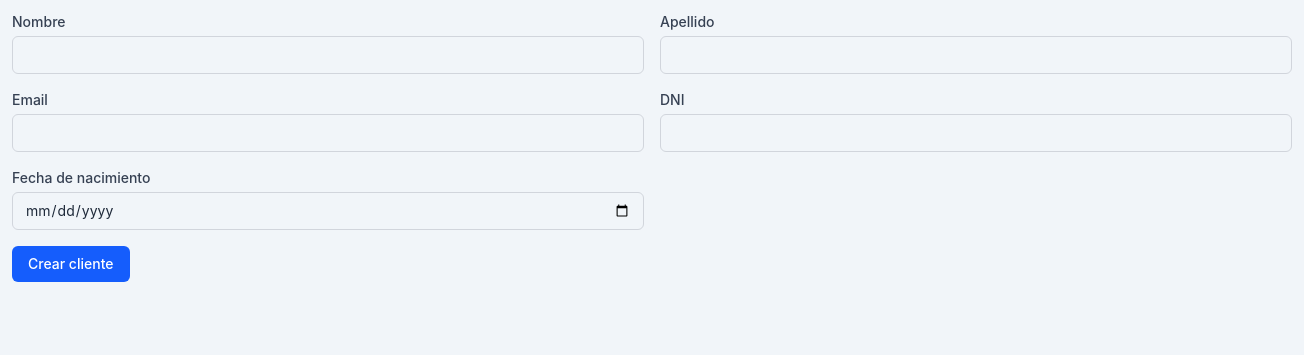
Test: CustomerForm › muestra el error devuelto por el backend
Step 1. Type "Ana" into the field labelled "Nombre" → {"x": 328, "y": 55}, box [12,36,644,74]
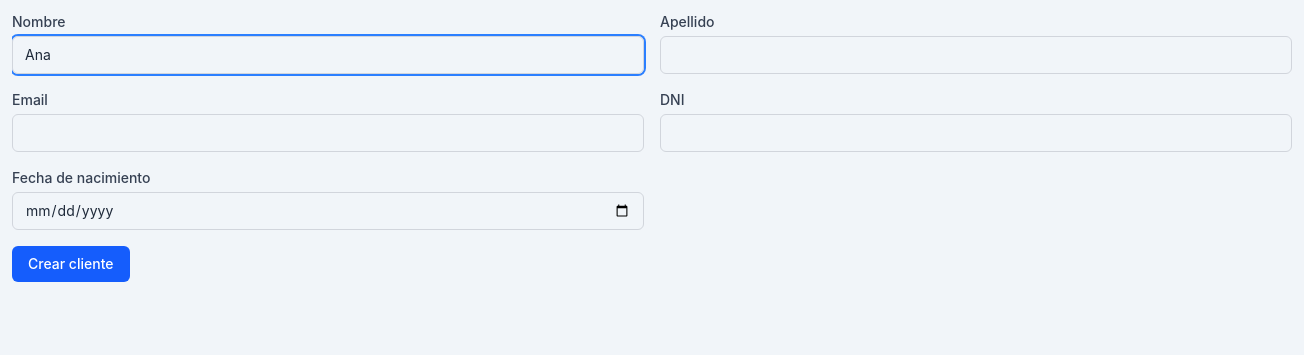
Step 2. Type "Pérez" into the field labelled "Apellido" → {"x": 976, "y": 55}, box [660,36,1292,74]
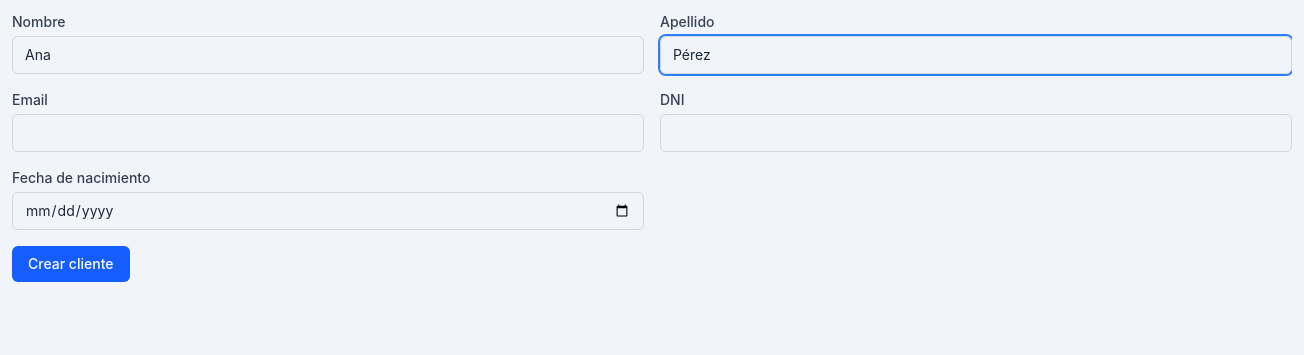
Step 3. Type "ana@mail.com" into the field labelled "Email" → {"x": 328, "y": 133}, box [12,114,644,152]
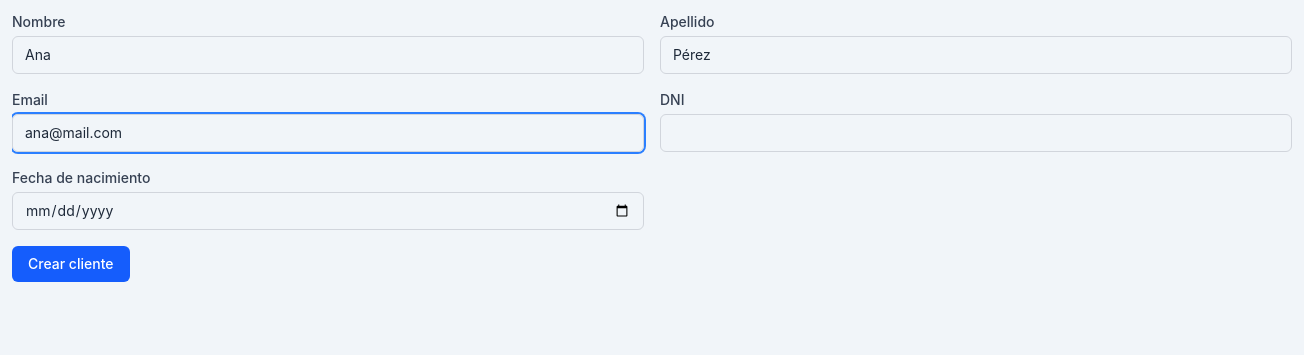
Step 4. Type "12345678" into the field labelled "DNI" → {"x": 976, "y": 133}, box [660,114,1292,152]
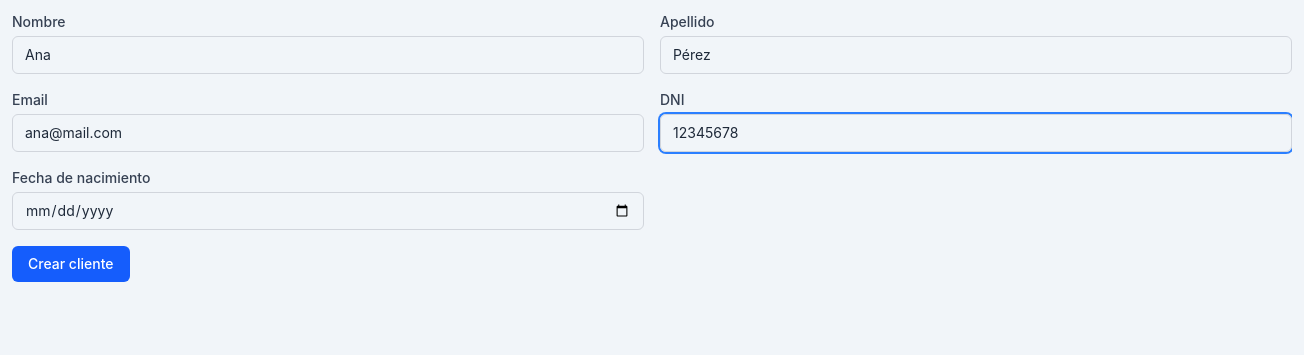
Step 5. Type "1990-05-20" into the date field labelled "Fecha de nacimiento" → {"x": 328, "y": 211}, box [12,192,644,230]
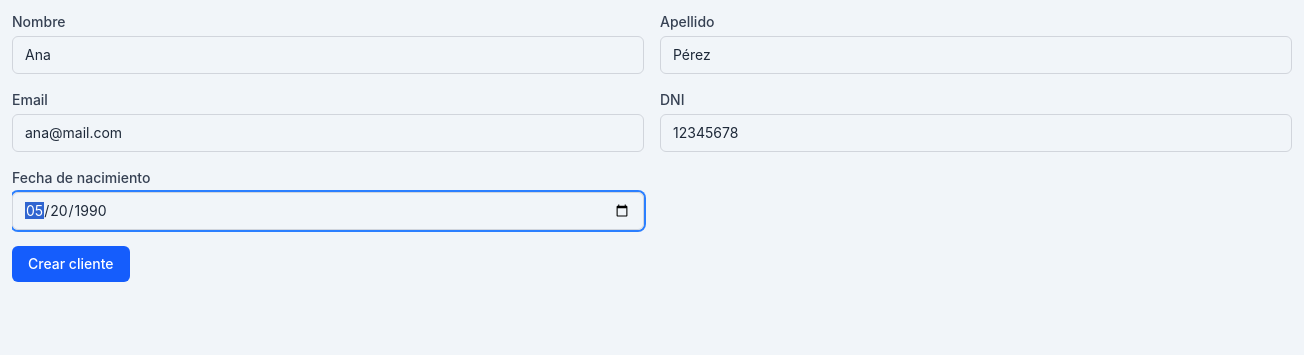
Step 6. Click the button "Crear cliente" → {"x": 71, "y": 264}, box [12,246,130,282]
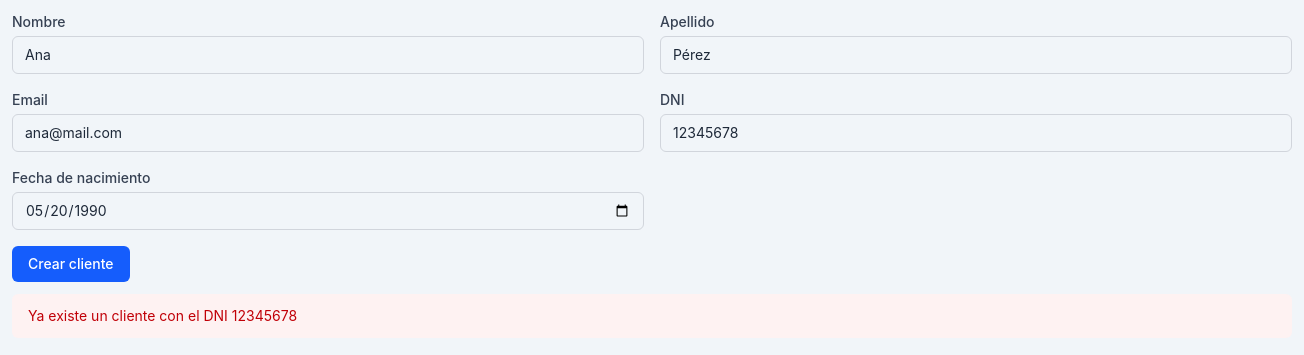
Now the message reads "Ya existe un cliente con el DNI 12345678", box [28,307,297,324]
